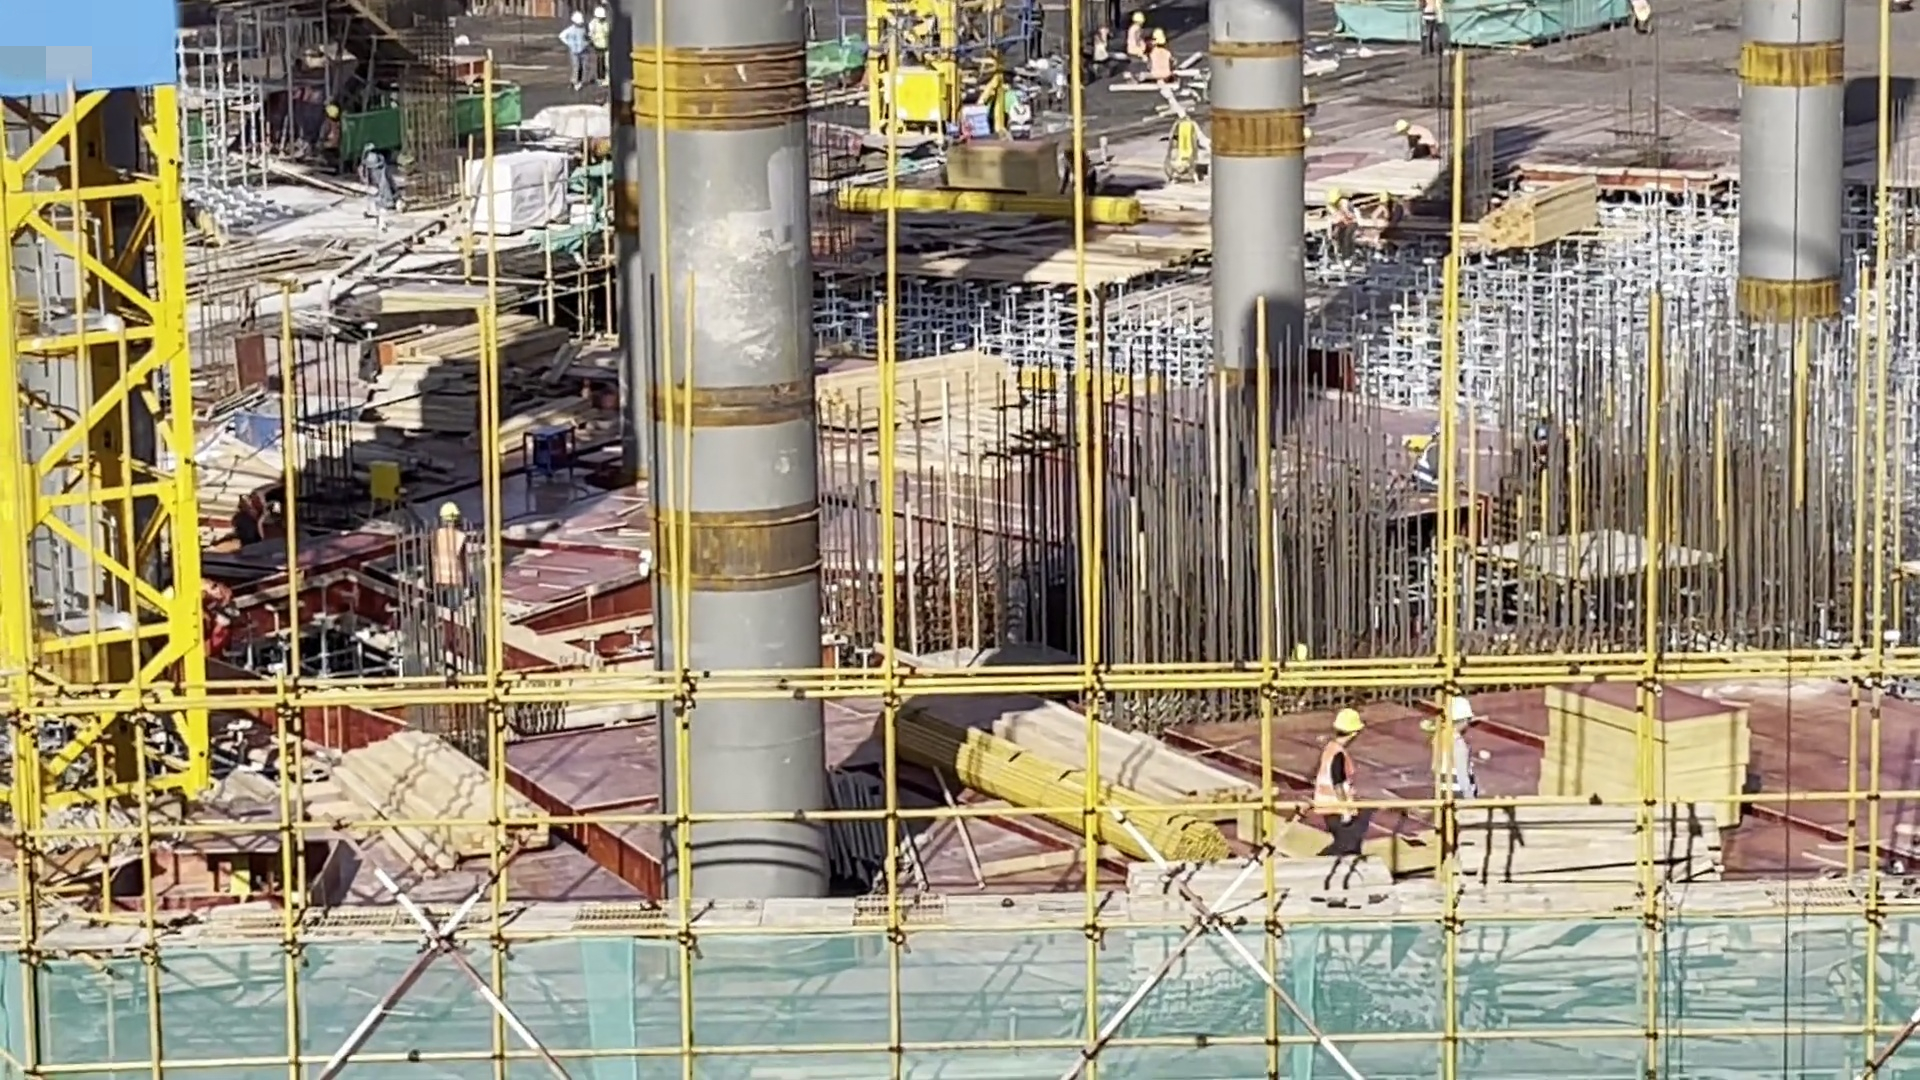board: (1546, 685, 1744, 823), (389, 326, 573, 430)
helmet: (1331, 708, 1365, 732)
person: (1305, 703, 1371, 873), (1432, 696, 1478, 810)
vest: (1314, 742, 1360, 817), (1437, 730, 1473, 801)
wood: (939, 692, 1251, 853), (328, 733, 551, 857), (1463, 810, 1725, 906), (821, 349, 1016, 427), (1471, 179, 1605, 250)
